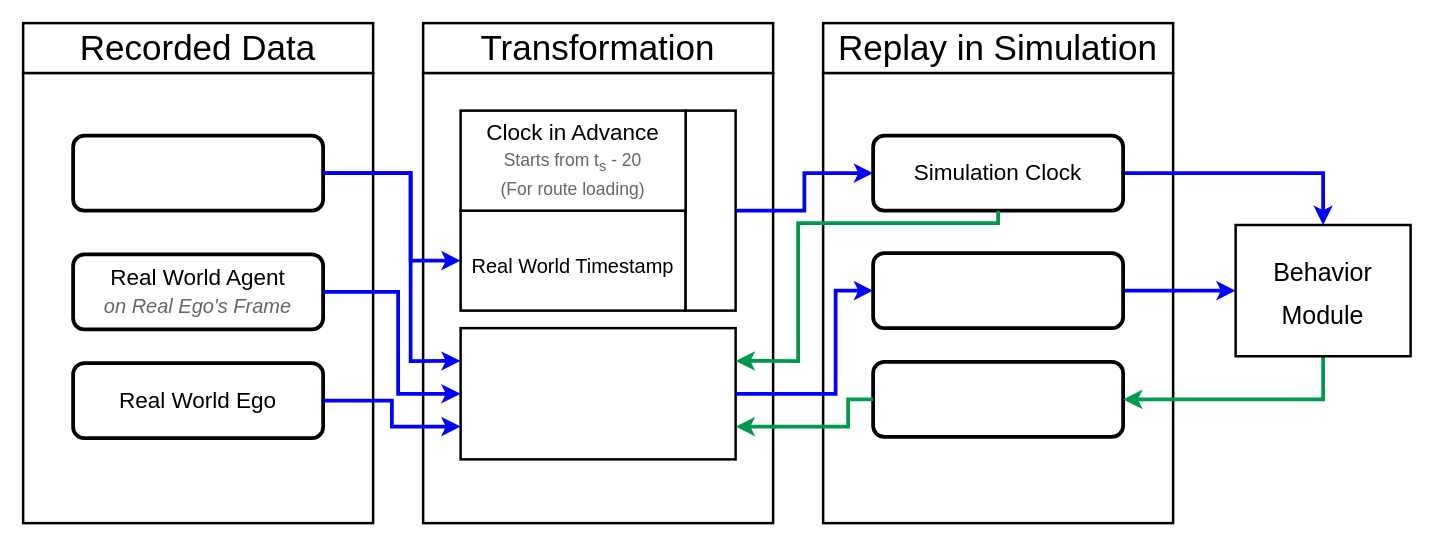
This 1433x545 diagram has some shape labels left out. The shapes that lost their labels are listed below. From the top down, each one's centre as x and y in pixels, then its label:
At pixel 197 172: "Real World Clock Starts from t s".
At pixel 710 210: "Clock Republisher".
At pixel 997 290: "Virtual Agent on Virtual Ego's Frame".
At pixel 597 393: "Coordinate Transform".
At pixel 997 398: "Virtual Ego".
